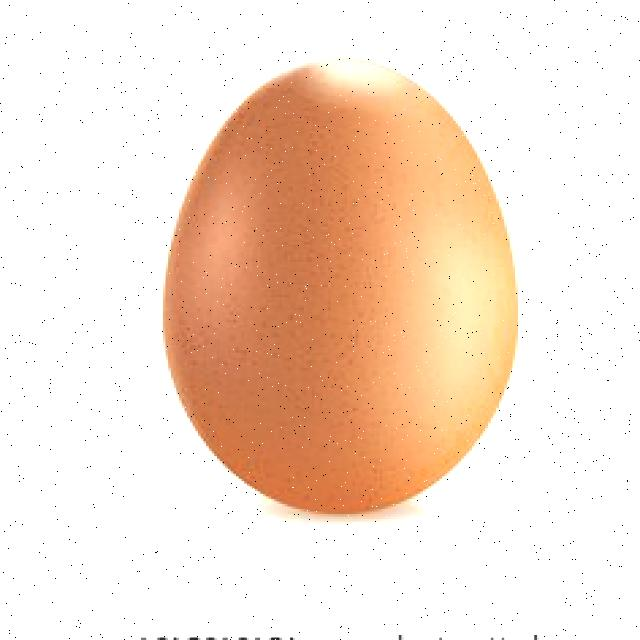Brown Egg: (142, 56, 532, 522)
